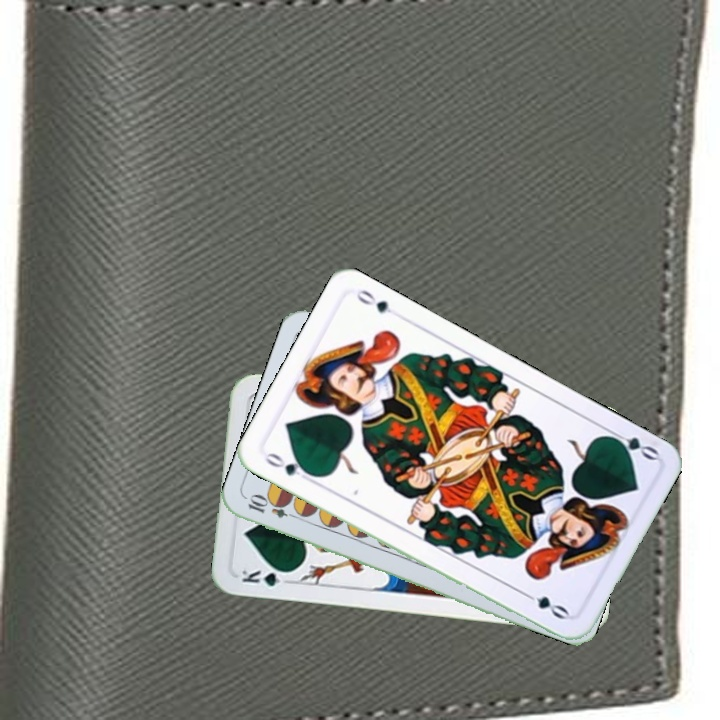E10: (244, 493, 302, 522)
GK: (238, 566, 295, 589)
GO: (603, 425, 661, 463), (261, 448, 317, 485)
